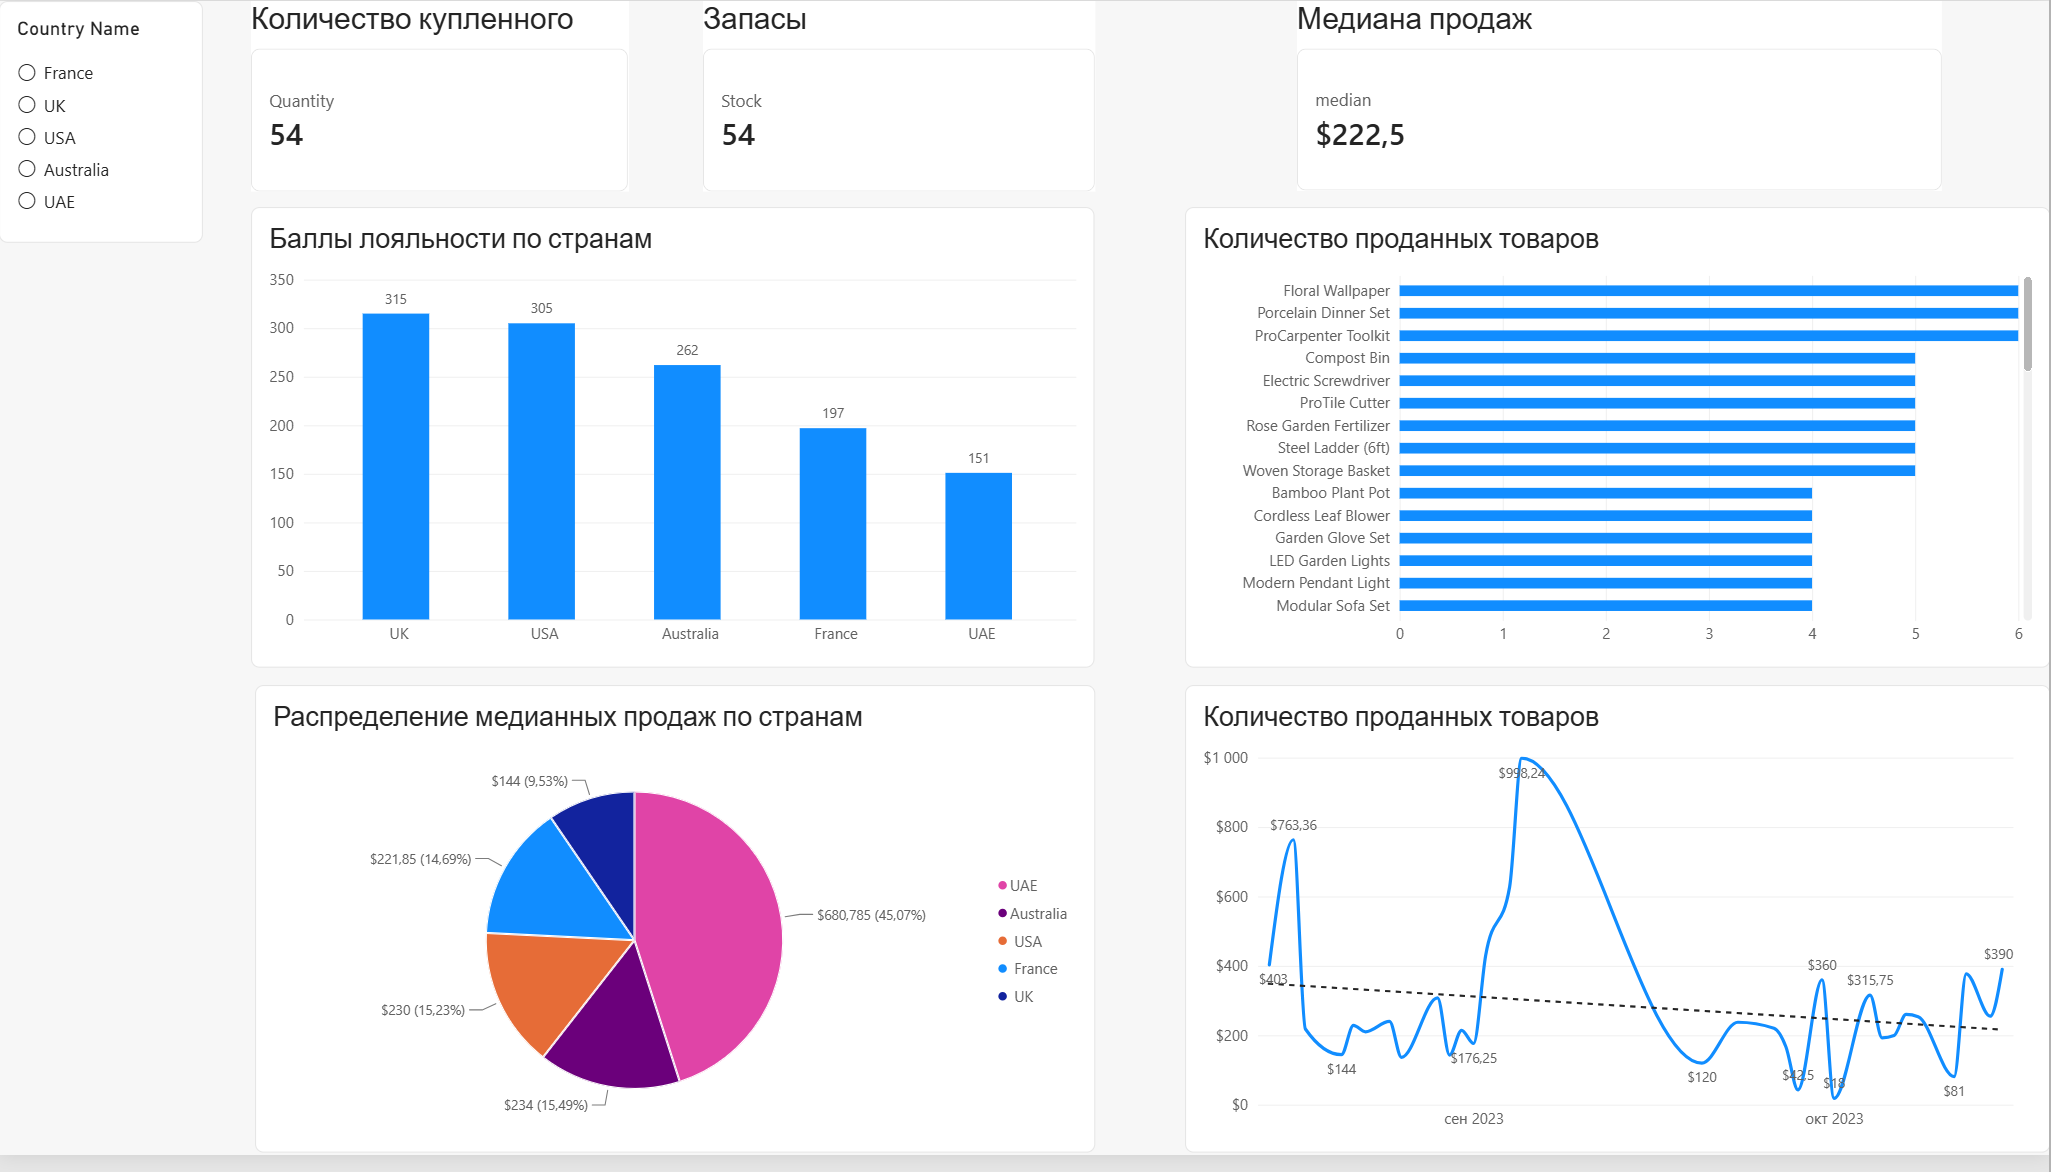

The dashboard page shown, as its layout file describes it:
{"tool":"powerbi","page":{"name":"Обзор продаж","canvas":[1920,1080],"ordinal":0},"visuals":[{"type":"clusteredColumnChart","title":"Баллы лояльности по странам","fields":{"Category":["Sales in USD.Country Name"],"Y":["Sum(Sales in USD. Loyalty Points)"]},"box":[235.9,192.1,790.2,431.3],"z":0},{"type":"clusteredBarChart","title":"Количество проданных товаров","fields":{"Category":["Sales in USD.Product Name"],"Y":["Sum(Sales in USD.Quantity Purchased)"]},"box":[1110.3,192.1,810.4,431.3],"z":1000},{"type":"pieChart","title":"Распределение медианных продаж по странам","fields":{"Category":["Sales in USD.Country Name"],"Y":["Sales in USD.median"]},"box":[239.3,640.2,786.8,438.1],"z":2000},{"type":"lineChart","title":"Количество проданных товаров","fields":{"Category":["Purchases.Purchase Date"],"Y":["Sales in USD.median"]},"box":[1110.3,640.2,810.4,438.1],"z":3000},{"type":"cardVisual","title":"Запасы","fields":{"Data":["CountNonNull(Sales in USD. Stock  )"]},"box":[658.8,0,367.3,178.6],"z":4000},{"type":"cardVisual","title":"Медиана продаж","fields":{"Data":["Sales in USD.median"]},"box":[1214.8,0,604,178],"z":5000},{"type":"cardVisual","title":"Количество купленного","fields":{"Data":["CountNonNull(Sales in USD.Quantity Purchased)"]},"box":[235.9,0,353.8,178.6],"z":6000},{"type":"listSlicer","fields":{"Values":["Sales in USD.Country Name"]},"box":[0,0,191.1,226.7],"z":7000}]}

Visuals, with their boxes in screenshot pixels (x1, y1, x2, y2), scaled from the page's 1920x1080 canvas onto the 2052x1172 screenshot:
"Баллы лояльности по странам" clusteredColumnChart: l=252, t=208, r=1097, b=677
"Количество проданных товаров" clusteredBarChart: l=1187, t=208, r=2051, b=677
"Распределение медианных продаж по странам" pieChart: l=256, t=695, r=1097, b=1170
"Количество проданных товаров" lineChart: l=1187, t=695, r=2051, b=1170
"Запасы" cardVisual: l=704, t=0, r=1097, b=194
"Медиана продаж" cardVisual: l=1298, t=0, r=1944, b=193
"Количество купленного" cardVisual: l=252, t=0, r=630, b=194
listSlicer - Sales in USD.Country Name: l=0, t=0, r=204, b=246
